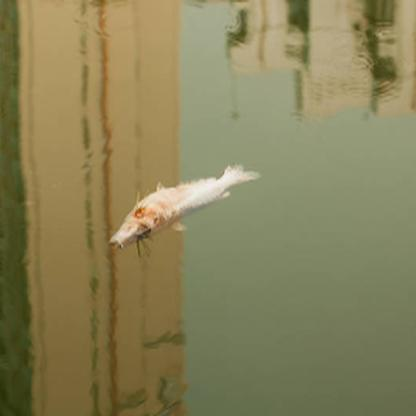deceased fish: (106, 165, 265, 251)
